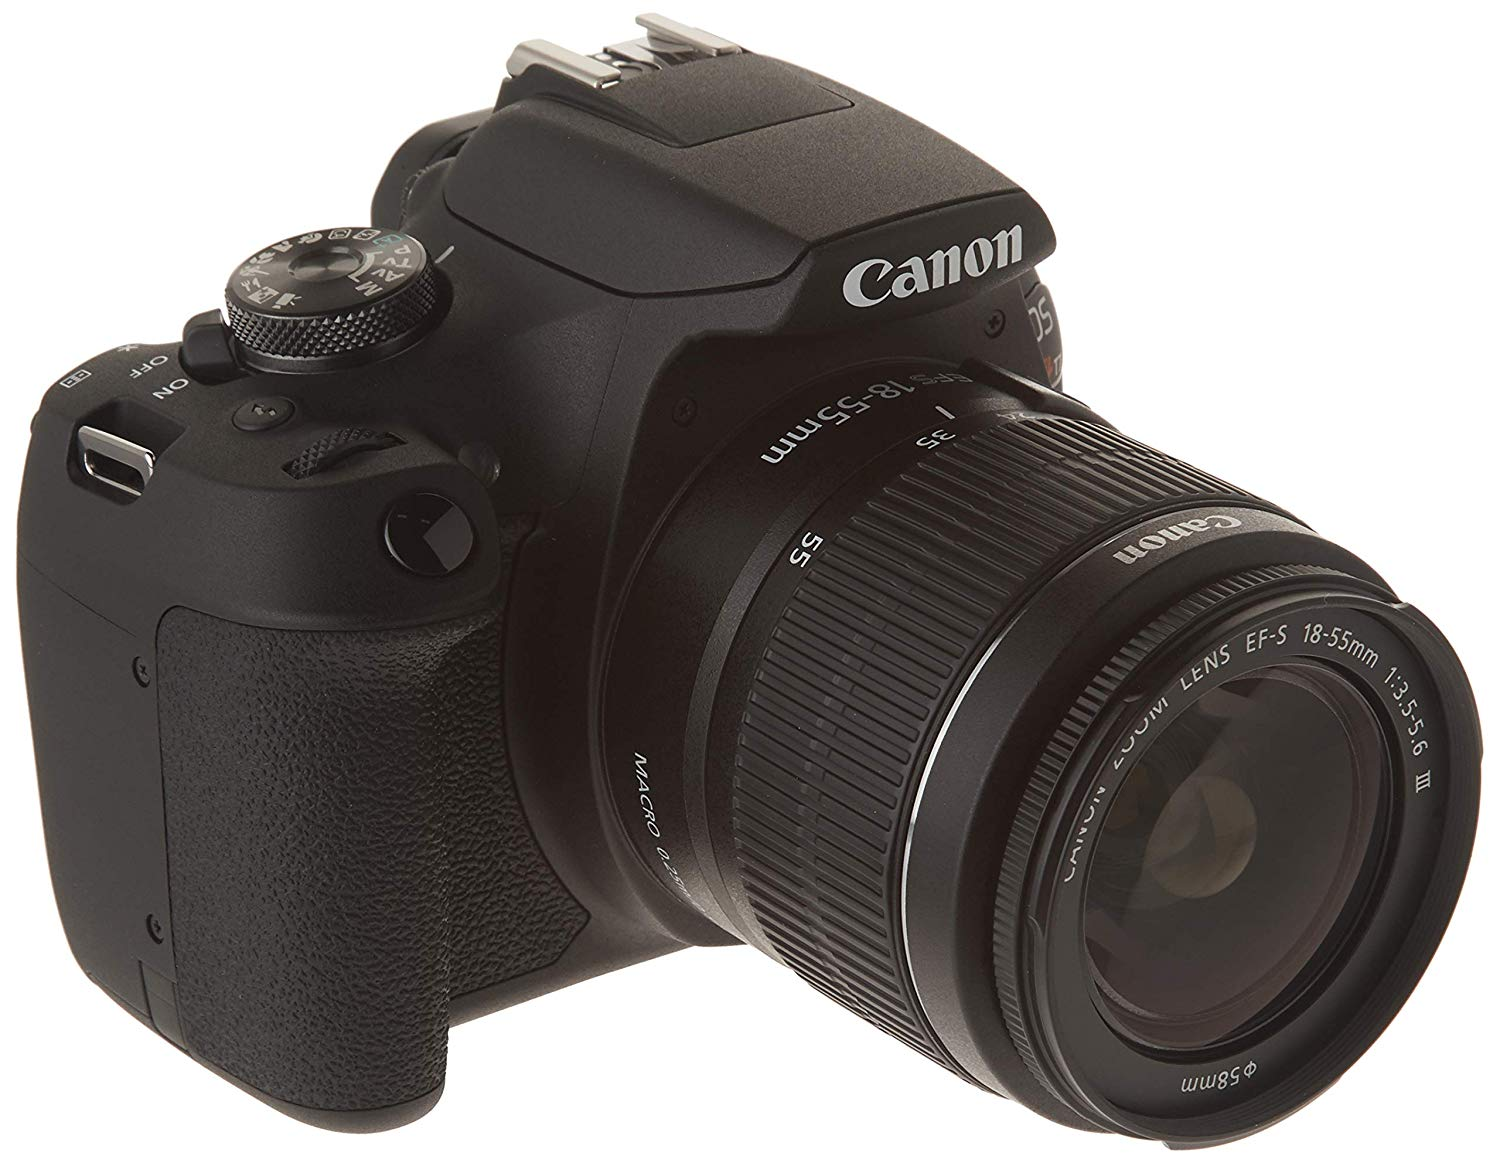kamera: (9, 2, 1500, 1161)
